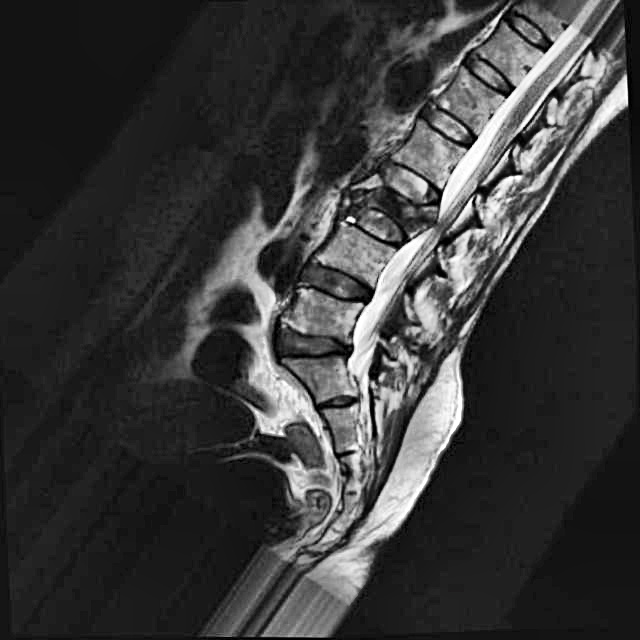Comminuted: (329, 140, 456, 251)
